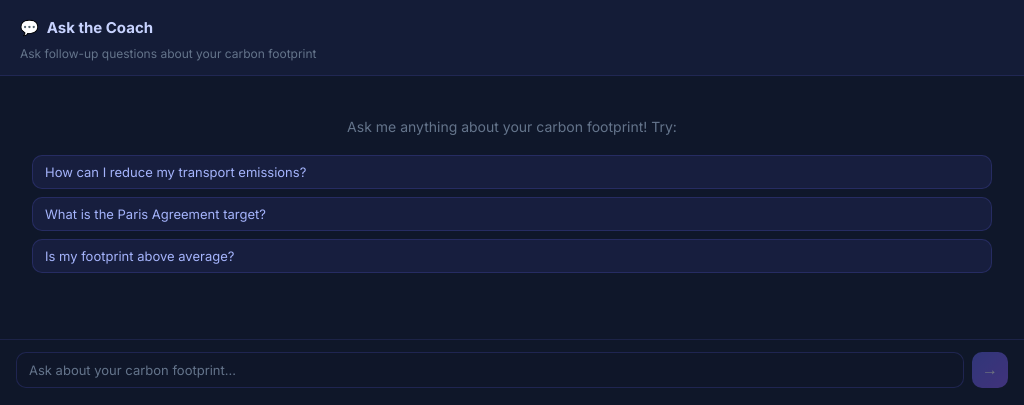
ChatCoach › empty state › clicking a starter suggestion populates the input
Click the button "How can I reduce my transport emissions?": (176, 172) [32,155,992,189]
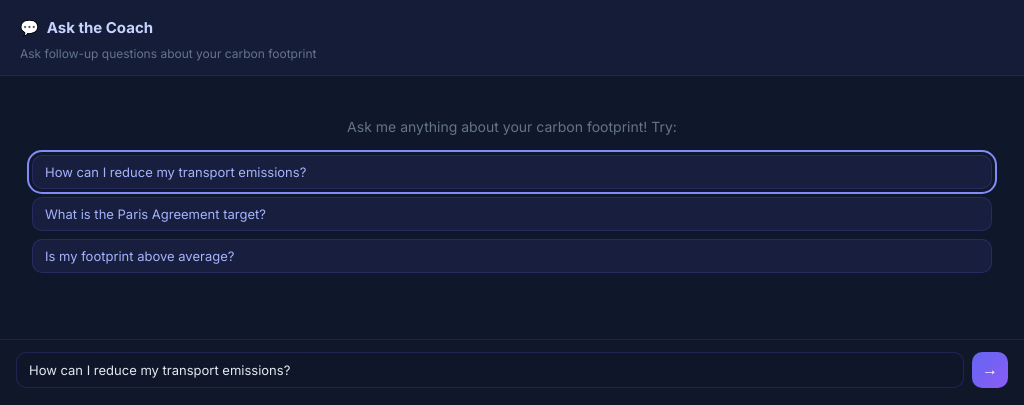
expect the text box named "Type your question" holds "How can I reduce my transport emissions?": met, box [16,352,964,388]
